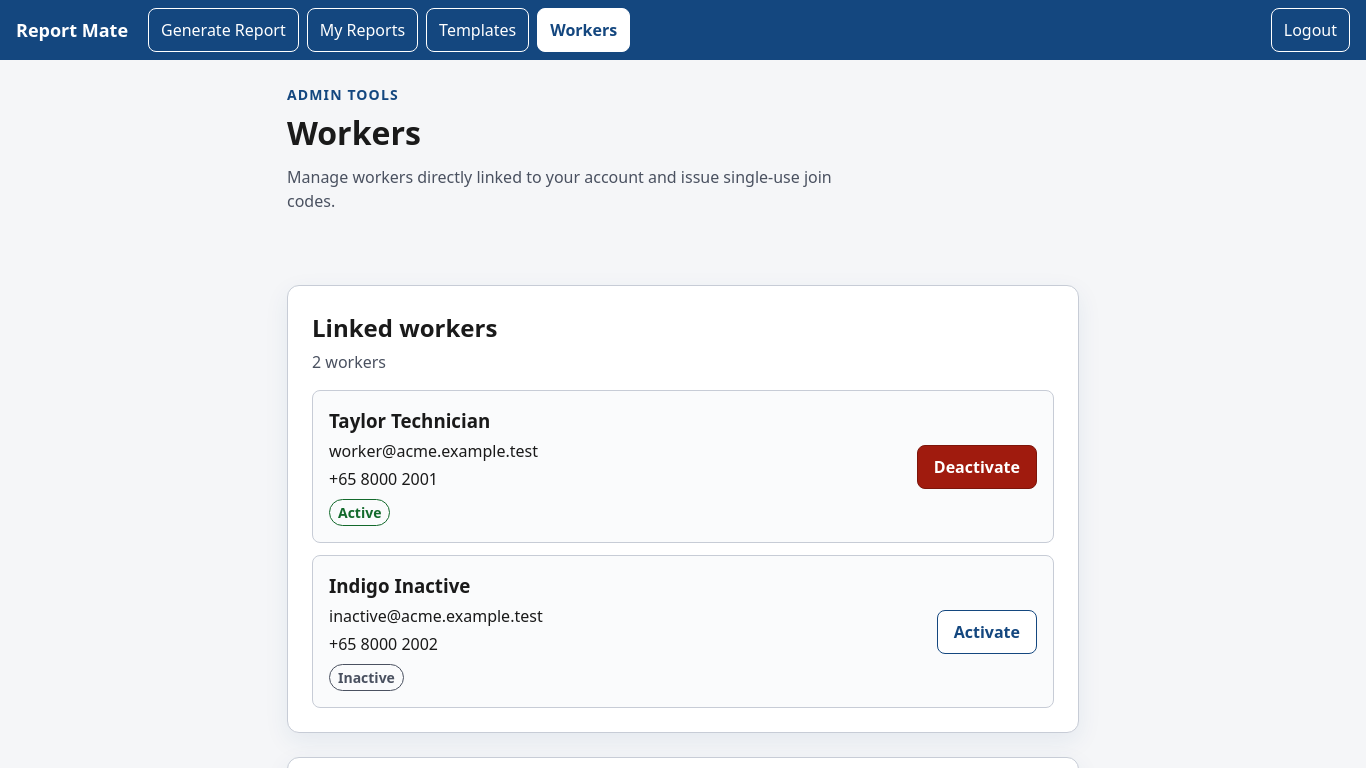
Test: WorkerManagementPage › renders only directly linked workers and updates their active state
Expected: the heading "Workers" is shown, [287,111,421,154]
Expected: the heading "Taylor Technician" is shown, [329,408,490,433]
Click the button with aria-label "Activate Indigo Inactive" at (987, 632), box [937,610,1037,654]
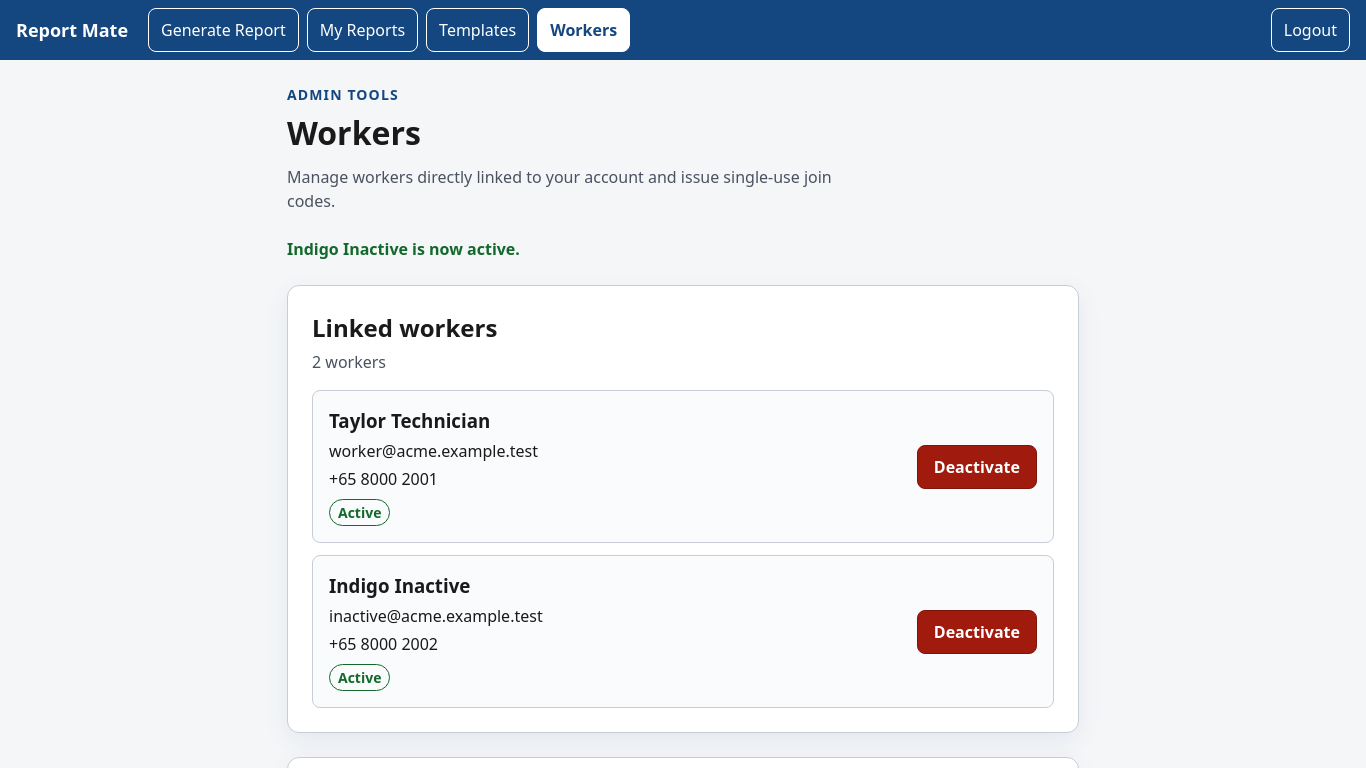
Now the button with aria-label "Deactivate Indigo Inactive" is shown, box [917,610,1037,654]
